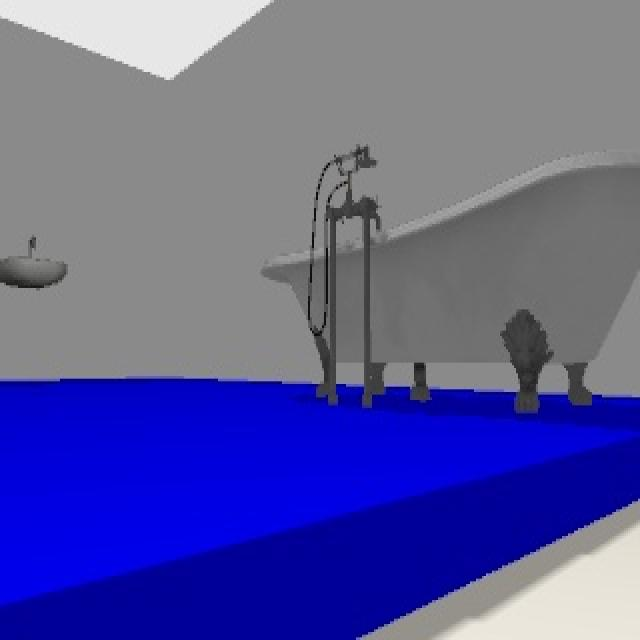bathtub: (258, 134, 640, 417)
